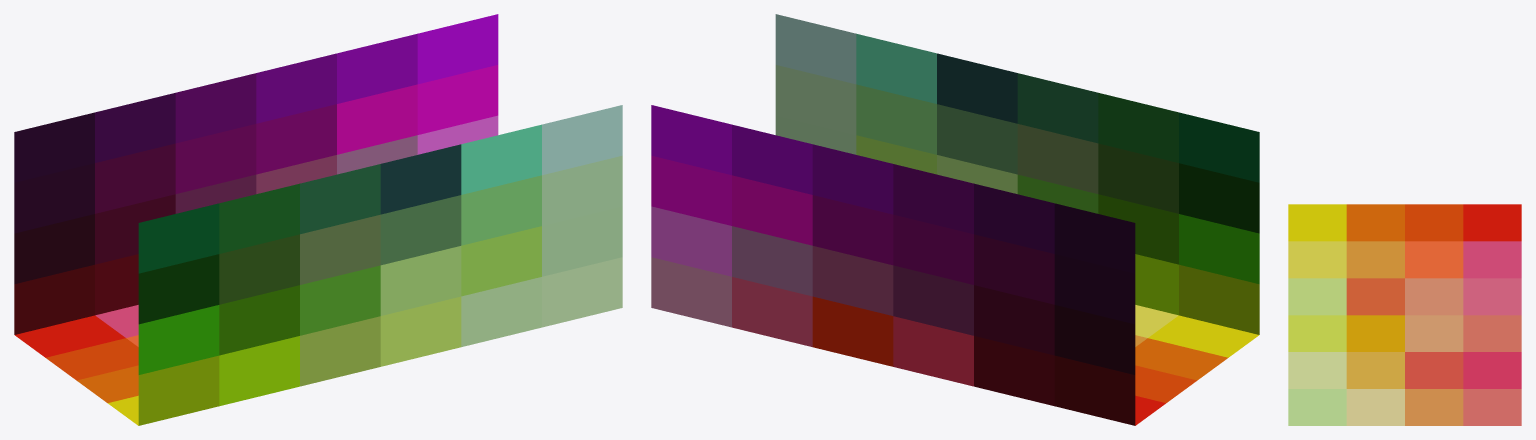
The model's file is room001.glb.
The picture shows the model from 3 angles, left to right: view 1: azimuth 30°, elevation 25°; view 2: azimuth 150°, elevation 25°; view 3: azimuth 270°, elevation 25°; orthographic projection. The views are drawn at different scales.
Visible parts, largest first — view 1: Plane; view 2: Plane; view 3: Plane.
Boxes of the visible parts, bbox=[...] form: Plane: bbox=[14, 14, 622, 425]; Plane: bbox=[651, 14, 1259, 425]; Plane: bbox=[1288, 204, 1521, 425].
Size of the model in its own units: 90 by 36.07 by 40.
